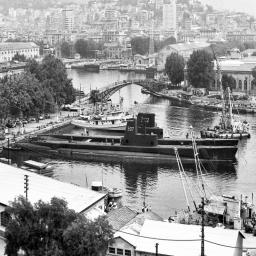submarine: (24, 119, 241, 162), (37, 111, 246, 147)
